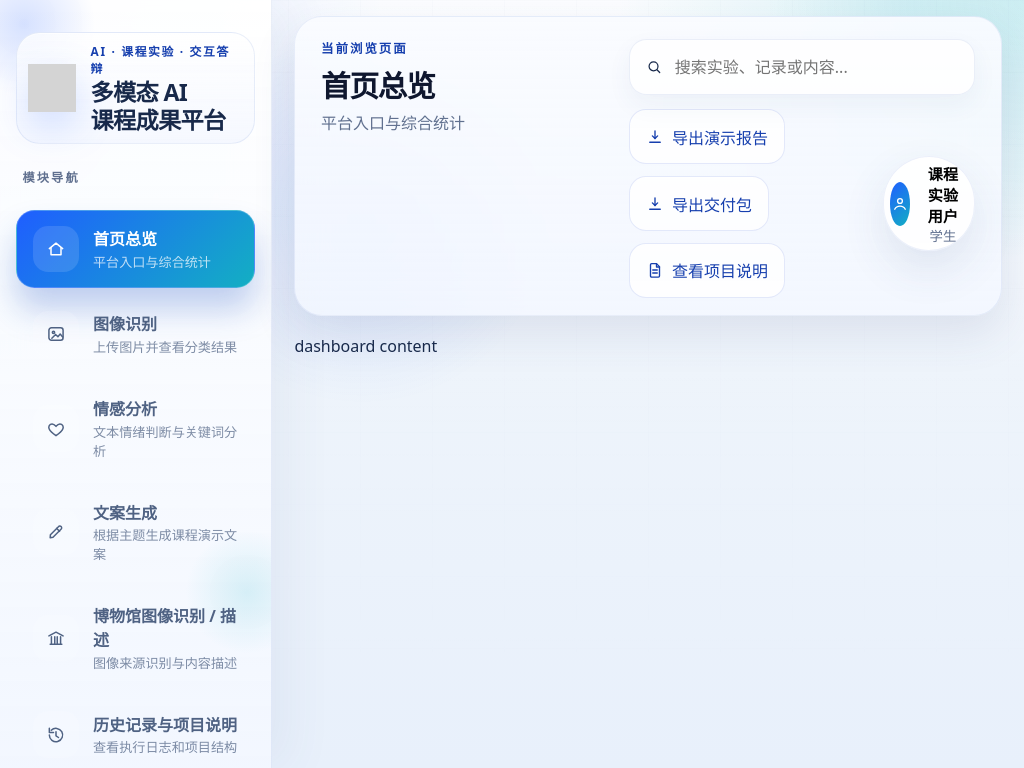
Test: AppShell › renders backend search suggestions and navigates to the selected result
The image size is (1024, 768).
Type "flop" into the search field named "全局搜索". click: (815, 67)
box: [673,55,958,79]
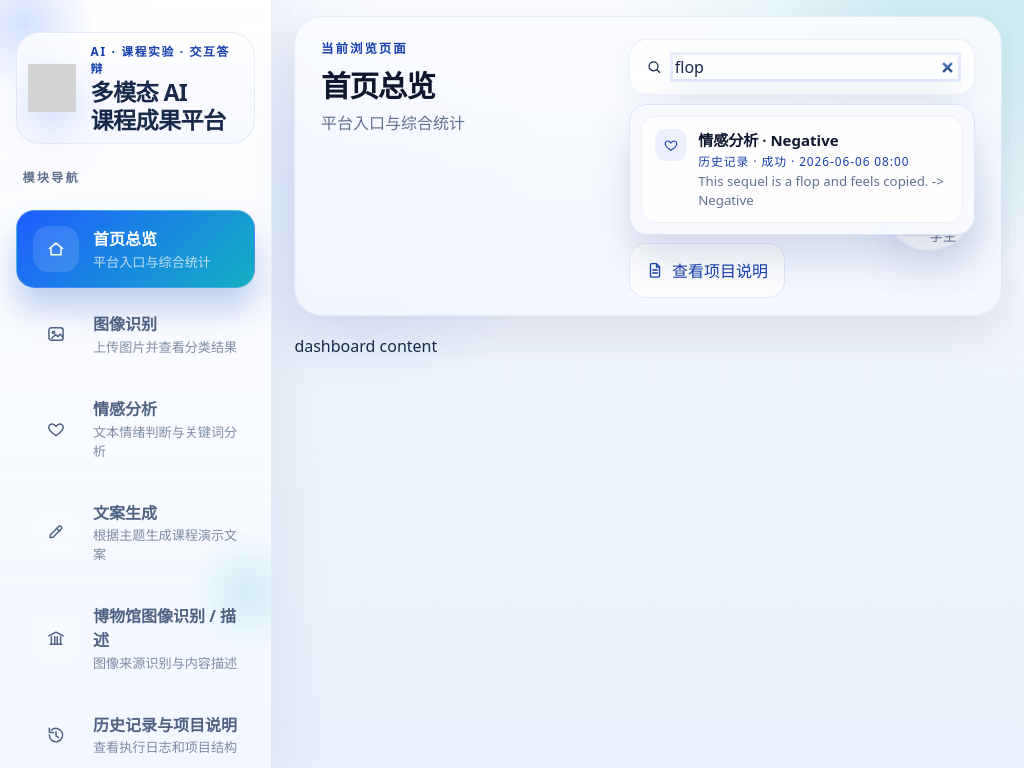
Click the text "情感分析 · Negative". click: (768, 140)
box: [698,130,839,150]
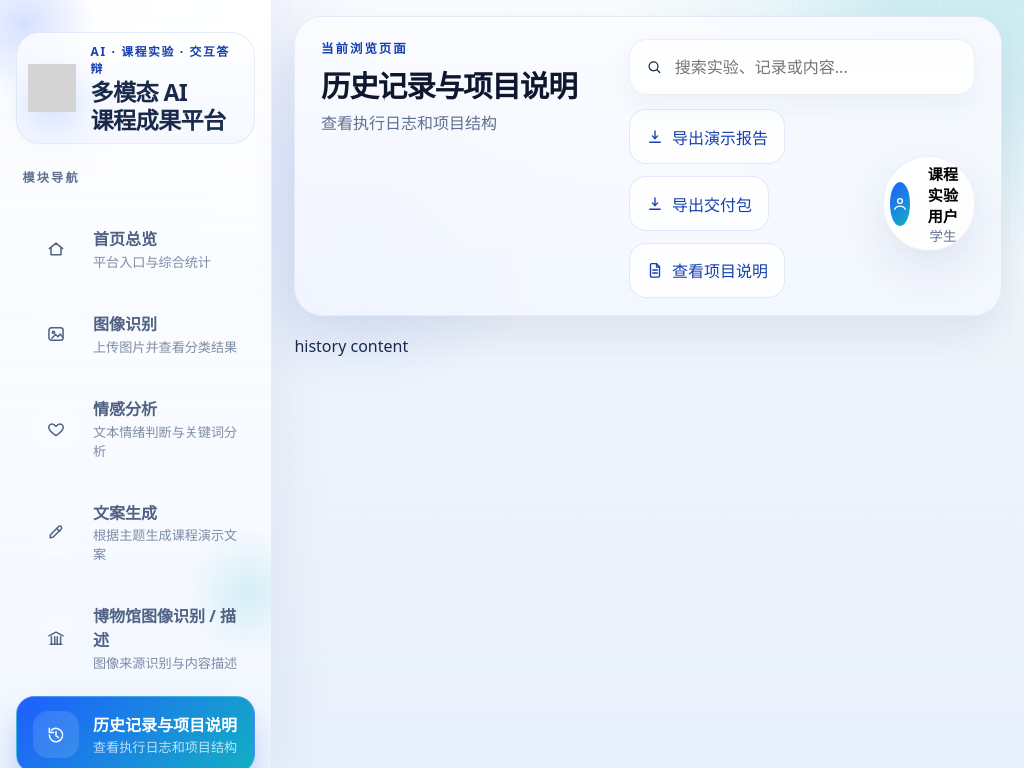
Now the text "history content" is shown, box [294,335,408,357]
